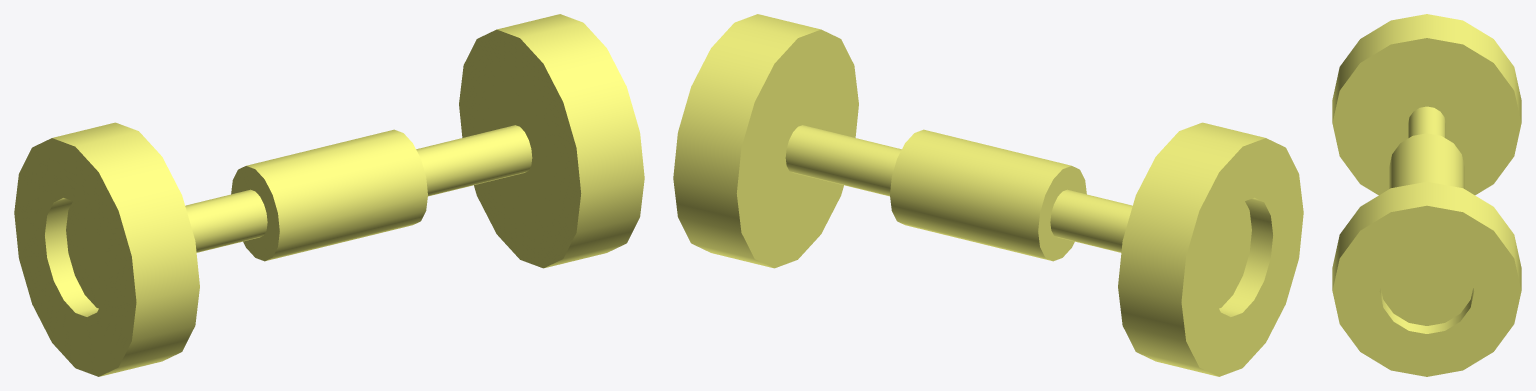
3 renders of one model, left to right at view 1: azimuth 30°, elevation 25°; view 2: azimuth 150°, elevation 25°; view 3: azimuth 270°, elevation 25°, orthographic. The views are drawn at different scales.
Parts seen in each view (by area): view 1: 2496.dat; view 2: 2496.dat; view 3: 2496.dat.
Part boxes in pixels (<box>): 2496.dat: <box>14,14,644,376</box>; 2496.dat: <box>673,14,1303,376</box>; 2496.dat: <box>1332,14,1521,376</box>.
Bounding box in the file's own units: 0.0192 × 0.008 × 0.008.
